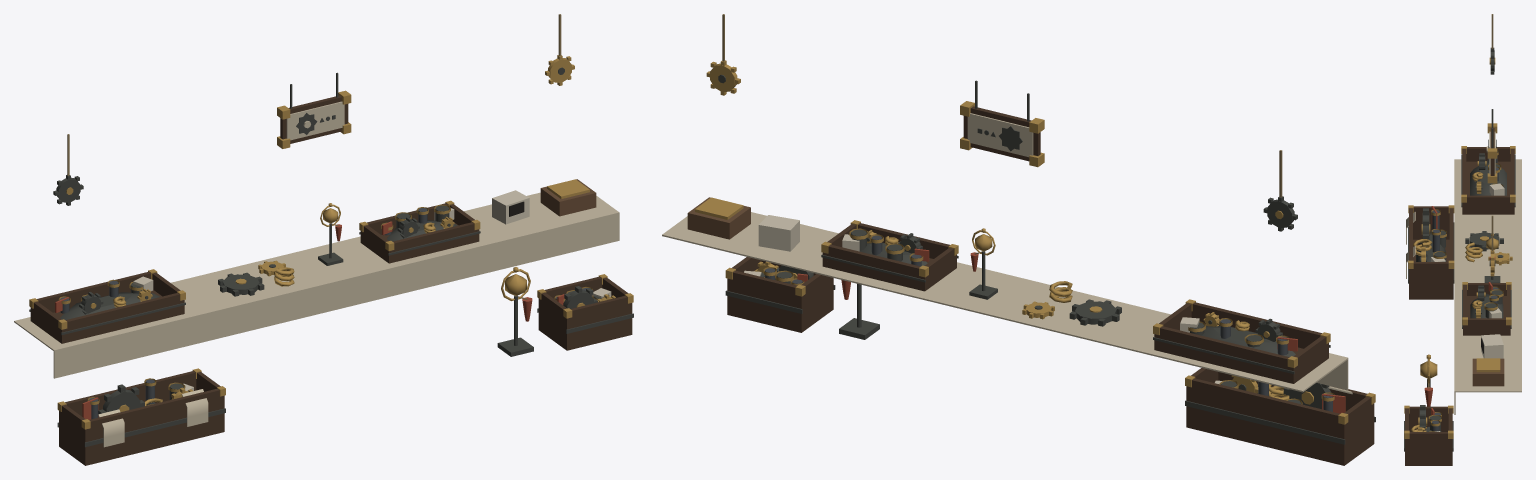
The model's file is market_junk.glb.
3 views of the same model, side by side, from view 1: azimuth 30°, elevation 25°; view 2: azimuth 150°, elevation 25°; view 3: azimuth 270°, elevation 25° (orthographic). The views are drawn at different scales.
Parts seen in each view (by area): view 1: market_junk; view 2: market_junk; view 3: market_junk.
Part boxes in pixels (x1,y1,x2,y2): market_junk: (14,14,633,465); market_junk: (662,14,1375,465); market_junk: (1404,14,1521,465).
Size of the model in its own units: 6.9 by 3.35 by 1.48.
